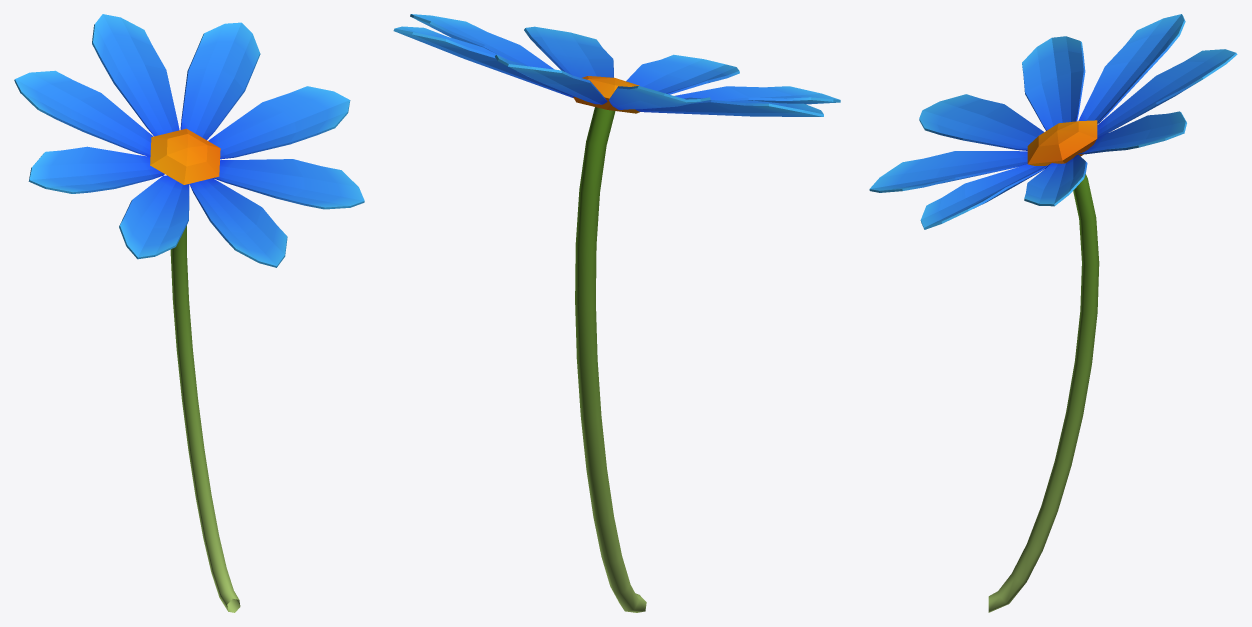
The model's file is Flower04B.fbx.
The picture shows the model from 3 angles, left to right: view 1: azimuth 30°, elevation 25°; view 2: azimuth 150°, elevation 25°; view 3: azimuth 270°, elevation 25°; orthographic projection. The views are drawn at different scales.
Visible parts, largest first — view 1: Flower04B_LOD0; view 2: Flower04B_LOD0; view 3: Flower04B_LOD0.
Part boxes in pixels (x1=…): Flower04B_LOD0: x1=14, y1=14, x2=364, y2=612; Flower04B_LOD0: x1=393, y1=14, x2=840, y2=612; Flower04B_LOD0: x1=869, y1=14, x2=1237, y2=612.
Size of what is drawn, in the model's own units: 54.31 by 83.33 by 50.36.
